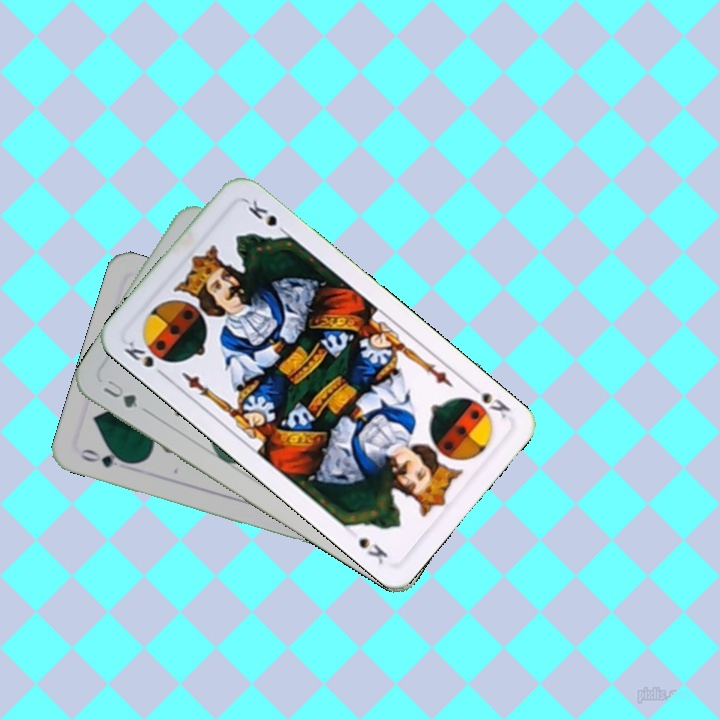GO: (76, 444, 134, 471)
GU: (99, 374, 141, 411)
SK: (120, 337, 170, 381), (464, 379, 513, 421)
